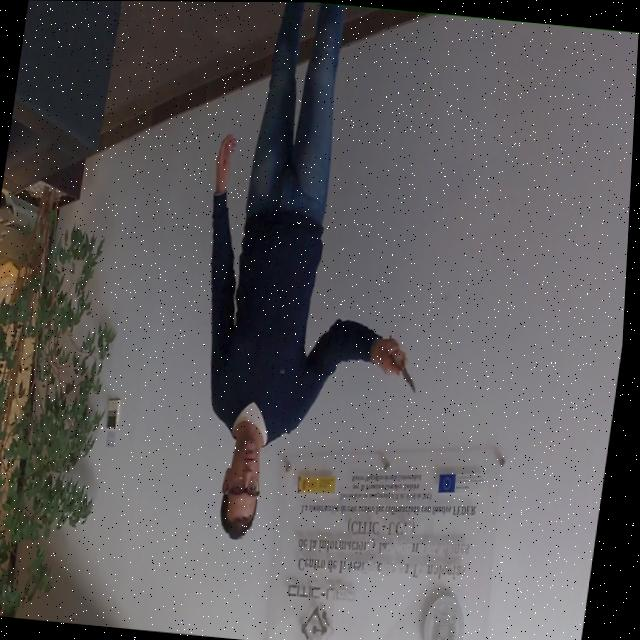knife: (384, 333, 426, 393)
